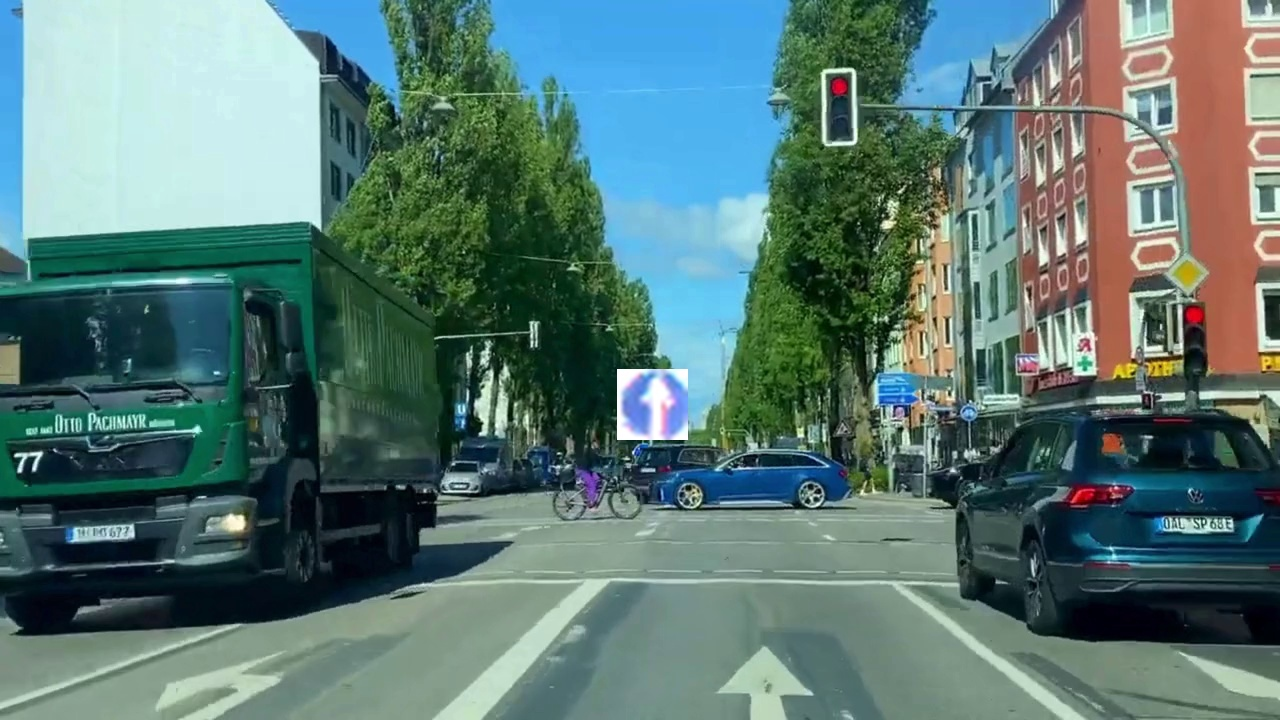Ahead only: (617, 369, 688, 440)
